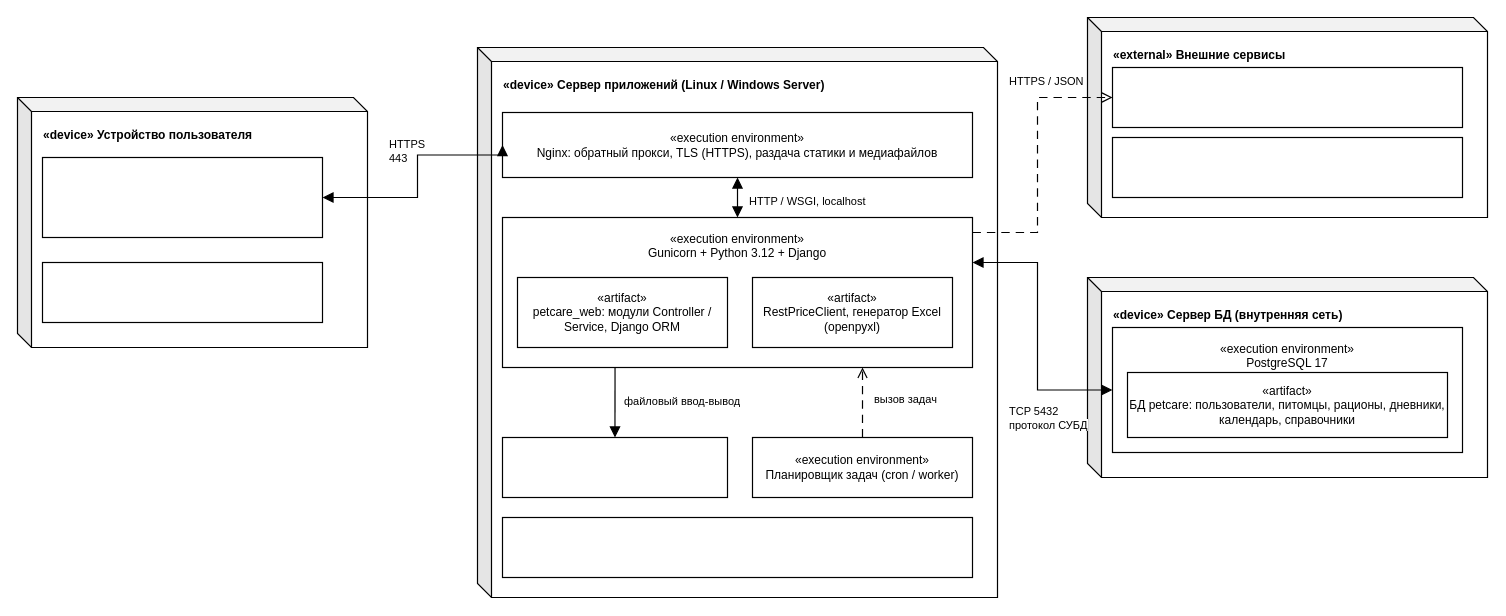
This 1506x616 diagram has some shape labels left out. The centre of each missing label's shape, as x and y in pixels:
«artifact» Web UI: HTML5 + CSS3 + JavaScript: point (182, 292)
«artifact» Журналы ошибок (logging): БД, Excel, загрузка файлов, внешние сервисы: point (737, 547)
«artifact» Каталог медиафайлов: фото питомцев: point (614, 467)
«execution environment» Веб-браузер (Chrome, Firefox, Edge, Яндекс.Браузер): point (182, 197)
Сервис ветеринарных норм NRC / AAFCO (REST / JSON): point (1287, 167)
Сервис цен на корма и продукты (REST / JSON): point (1287, 97)
